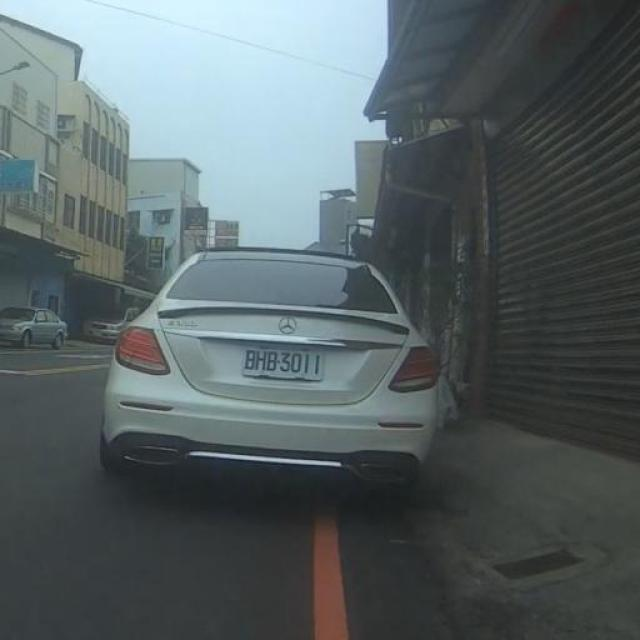Legalparking: (0, 308, 68, 349), (84, 308, 139, 341)
illegalparking: (100, 250, 439, 491)
